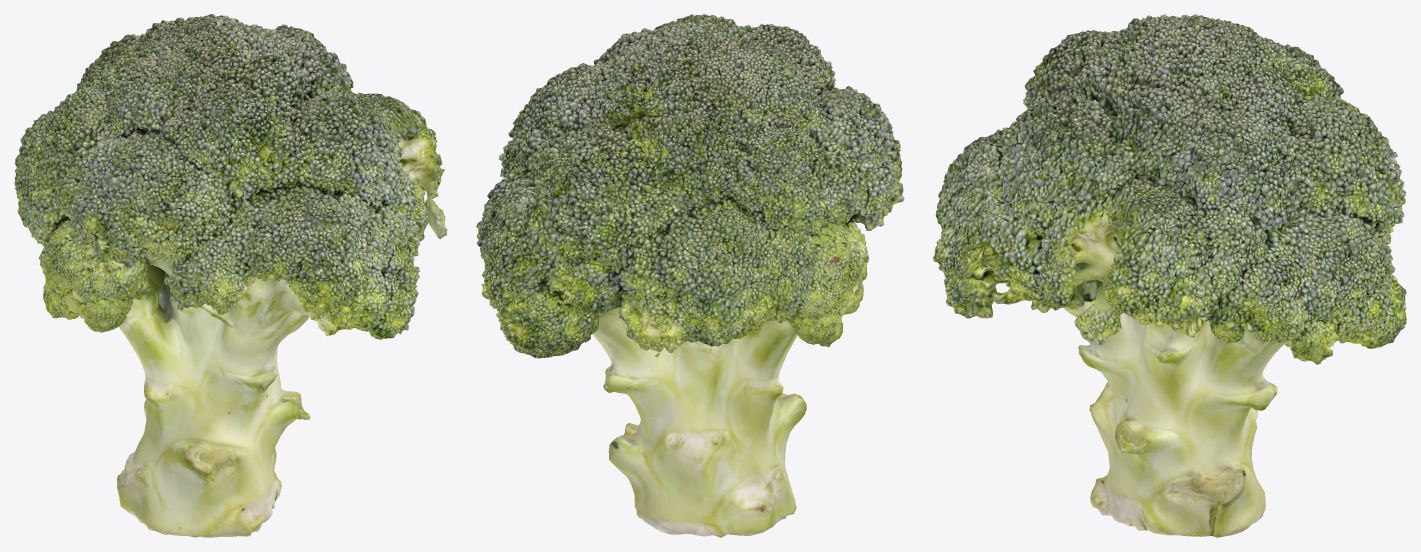
Rendered from broccoli.glb.
3 renders of one model, left to right at view 1: azimuth 30°, elevation 25°; view 2: azimuth 150°, elevation 25°; view 3: azimuth 270°, elevation 25°, orthographic. The views are drawn at different scales.
Parts seen in each view (by area): view 1: Object_2; view 2: Object_2; view 3: Object_2.
Part boxes in pixels (box(x1,y1,x2,y2)): Object_2: box(14, 14, 447, 537); Object_2: box(476, 14, 904, 537); Object_2: box(933, 14, 1406, 537).
Size of the model in its own units: 1.72 by 2.15 by 1.87.
1 material, 1 textured.
